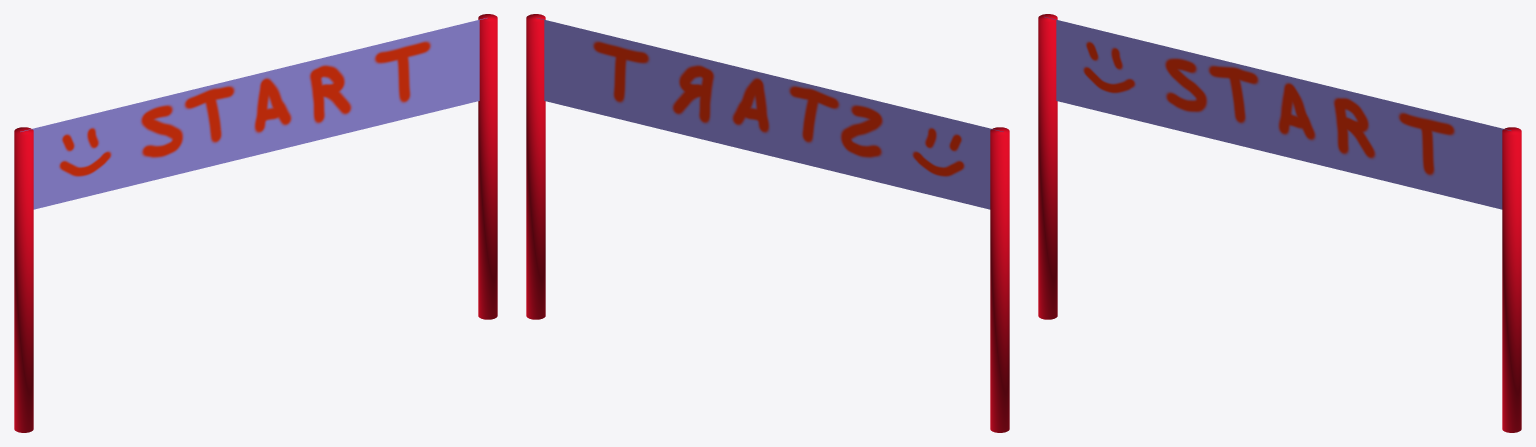
The model's file is startGate.glb.
The picture shows the model from 3 angles, left to right: view 1: azimuth 30°, elevation 25°; view 2: azimuth 150°, elevation 25°; view 3: azimuth 330°, elevation 25°; orthographic projection.
Parts seen in each view (by area): view 1: Plane, Cylinder, Cylinder.001; view 2: Plane, Cylinder, Cylinder.001; view 3: Plane, Cylinder.001, Cylinder.
Boxes of the visible parts, box(x1,y1,x2,y2) form: Plane: box(20, 18, 487, 209); Cylinder: box(14, 127, 33, 432); Cylinder.001: box(478, 14, 497, 319); Plane: box(536, 18, 1003, 209); Cylinder: box(990, 127, 1009, 432); Cylinder.001: box(526, 14, 545, 319); Plane: box(1044, 16, 1511, 209); Cylinder.001: box(1502, 127, 1521, 432); Cylinder: box(1038, 14, 1057, 319).
Bounding box in the file's own units: 0.3842 × 0.2276 × 0.0134.
2 materials, 1 textured.
